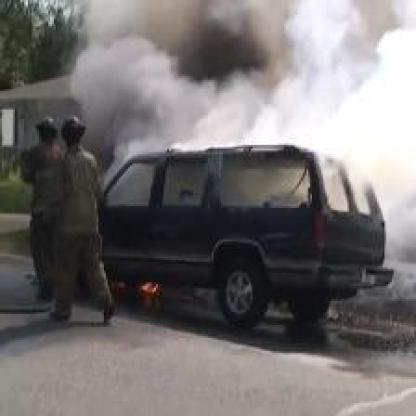smoke: (72, 1, 413, 195)
